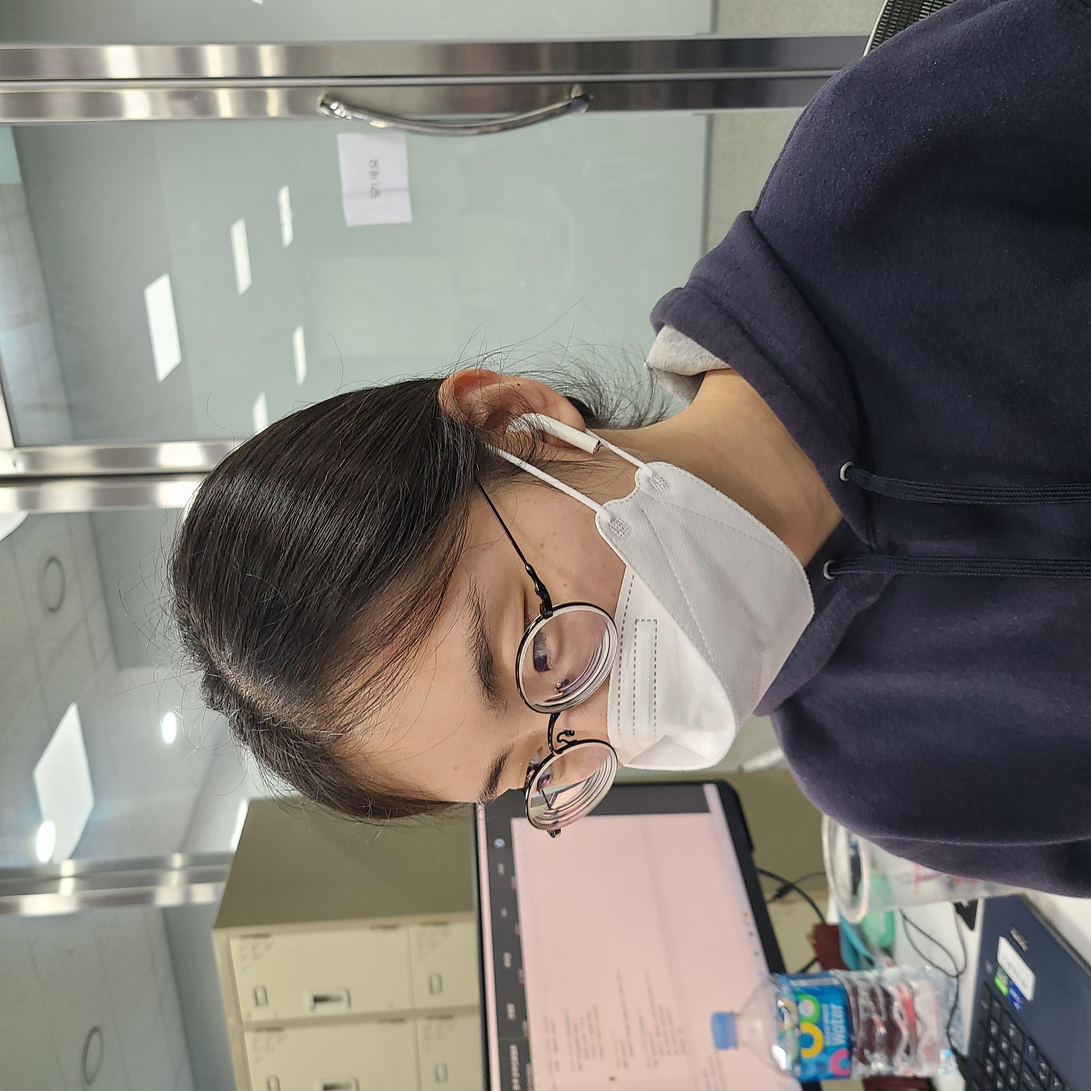earphone: (630, 496, 690, 620)
